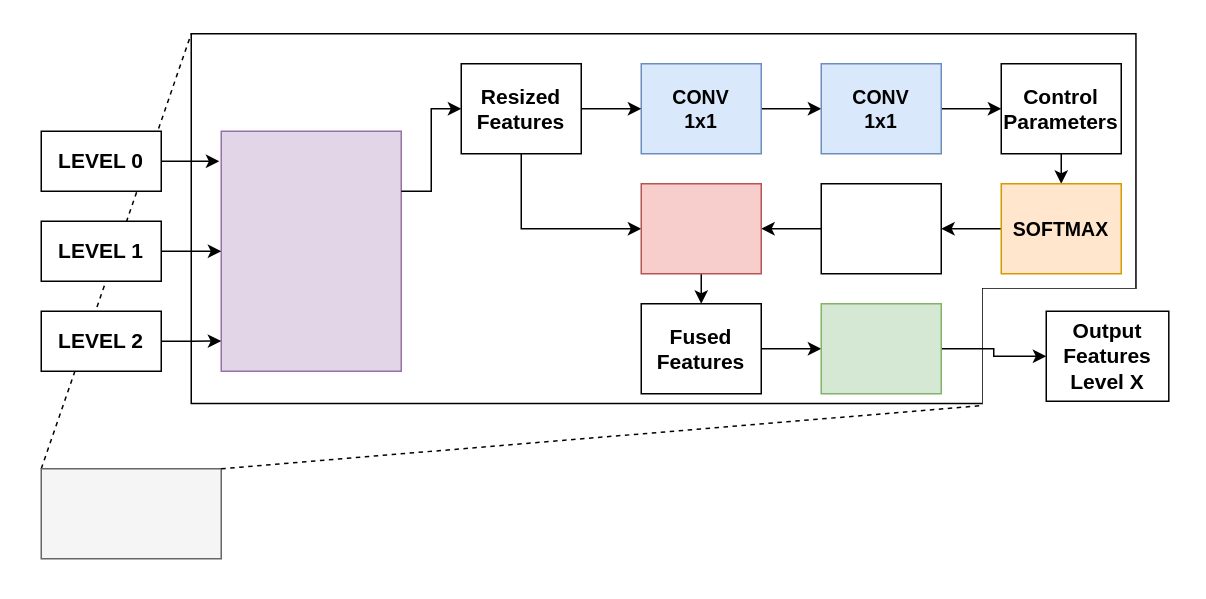
The diagram is 1206 pixels wide and 599 high, and some of its shapes have lost their labels. The shapes that lost their labels are listed below. From the top down, each one's centre as x and y in pixels, then its label:
At (700,228): "FUSION".
At (880,228): "Spatial Weights".
At (310,250): "RESIZE".
At (880,348): "CONV 3x3".
At (130,513): "ASFF - X".
